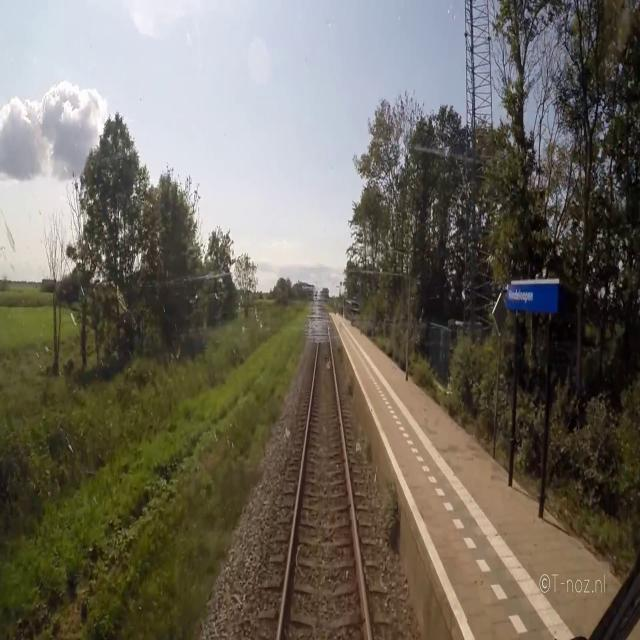rail-track: (281, 311, 367, 639)
